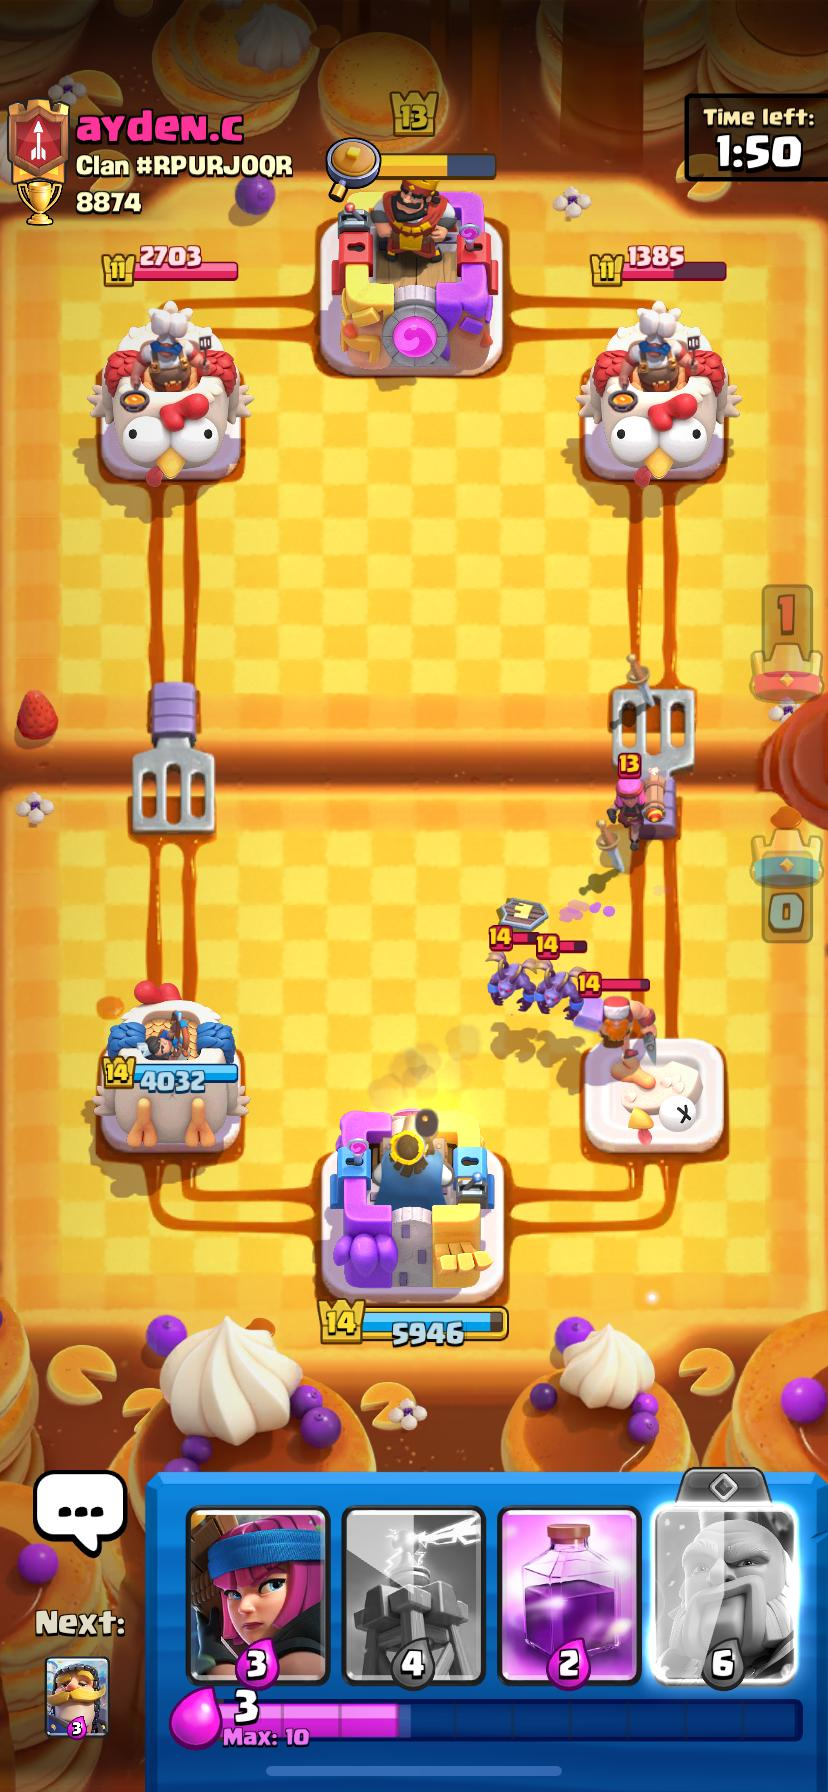EFirecrack: (607, 777, 674, 850)
EKingTower: (320, 177, 502, 378)
ELumberJack: (576, 991, 655, 1063)
EnemyPanTower: (578, 302, 739, 487), (90, 301, 250, 486)
OwnKingTower: (323, 1109, 503, 1306)
OwnPrincessTower: (93, 983, 248, 1153)
TowerDown: (584, 1038, 724, 1154)
eminion: (488, 955, 543, 1011), (536, 965, 586, 1019)
